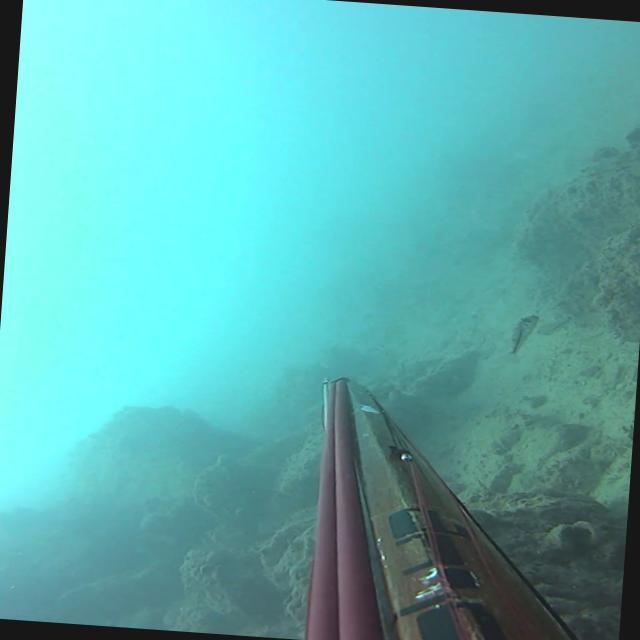Balon Baligi: (503, 312, 538, 360), (535, 316, 572, 336)
